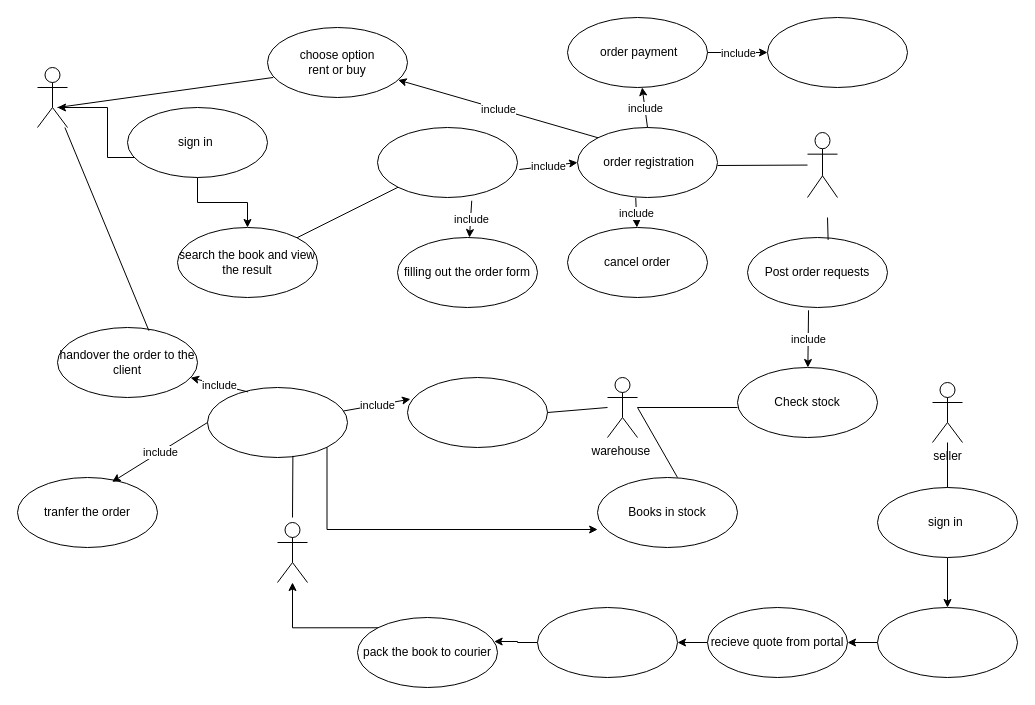
Image size: 1035x705. Some labels were removed from this diagram. The shapes that lost their labels are listed below. From the top down, each one's centre as x and y in pixels, then its label:
At pixel 837 52: "check the payment method".
At pixel 52 97: "client".
At pixel 447 162: "delivery order".
At pixel 822 165: "Administrators".
At pixel 277 422: "book delivery".
At pixel 477 412: "Pack your order and give it to the courier".
At pixel 292 552: "courier".
At pixel 607 642: "choose payment method".
At pixel 947 642: "enter ISBN of book".
